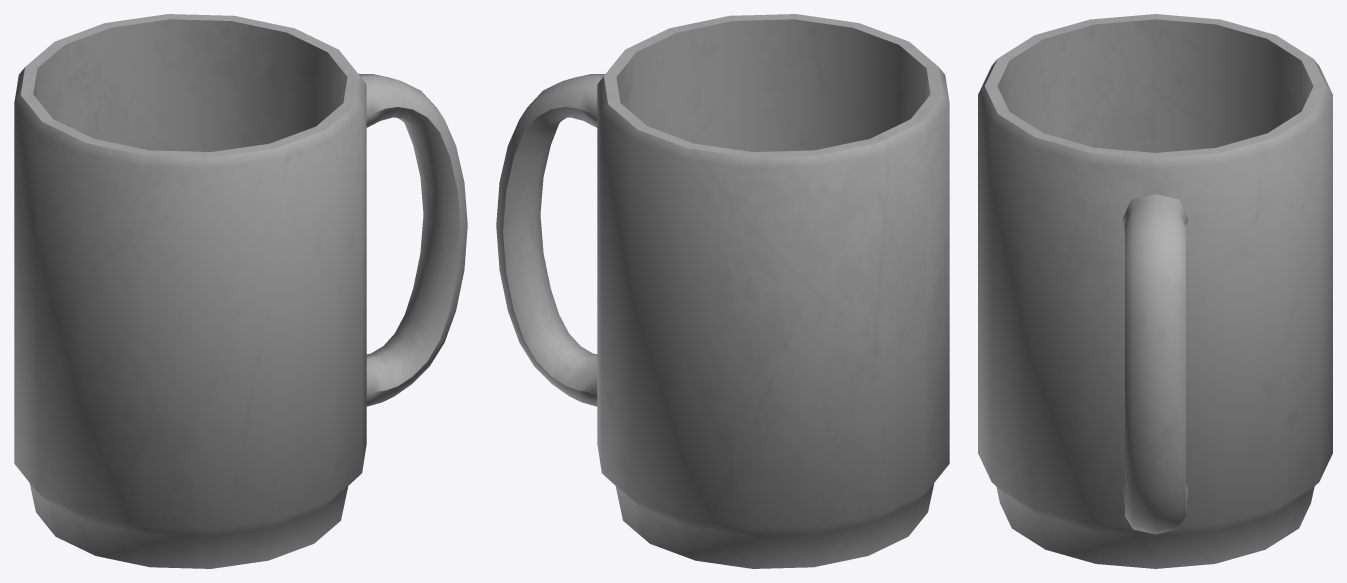
File: prop_mug.glb
The picture shows the model from 3 angles, left to right: view 1: azimuth 30°, elevation 25°; view 2: azimuth 150°, elevation 25°; view 3: azimuth 270°, elevation 25°; orthographic projection.
Parts seen in each view (by area): view 1: Prop_Mug; view 2: Prop_Mug; view 3: Prop_Mug.
Boxes of the visible parts, left/top/right/bottom form: Prop_Mug: left=14, top=14, right=467, bottom=568; Prop_Mug: left=496, top=14, right=949, bottom=568; Prop_Mug: left=978, top=14, right=1332, bottom=568.
Bounding box in the file's own units: 0.1825 × 0.1718 × 0.1325.
Materials: 1 (1 with a texture image).
